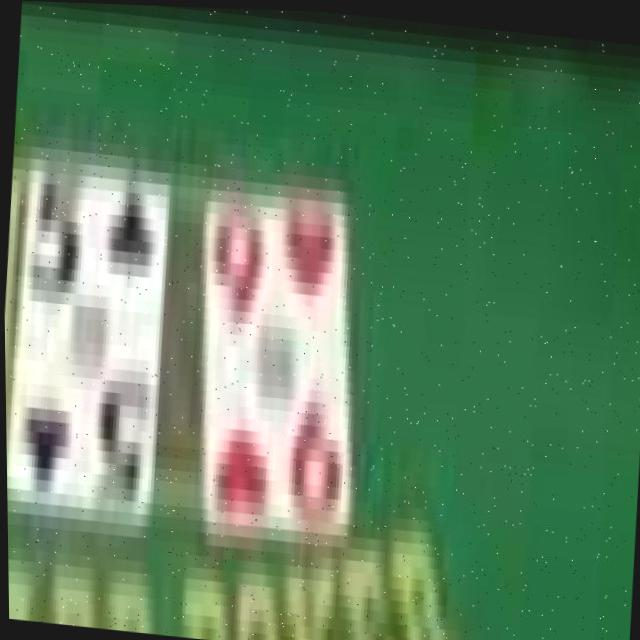Card-5: (6, 152, 170, 512)
Card-9: (205, 187, 349, 529)
